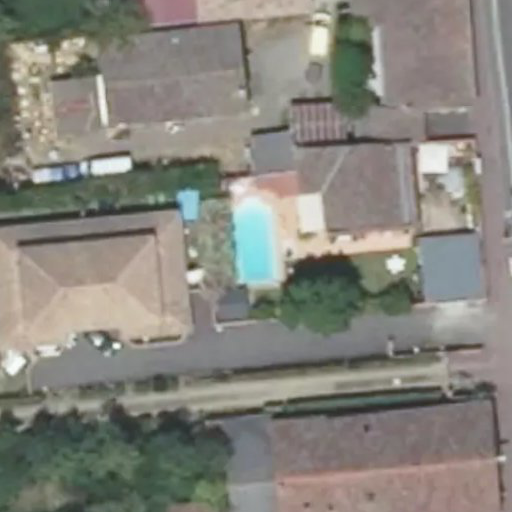pool: (232, 202, 278, 279)
